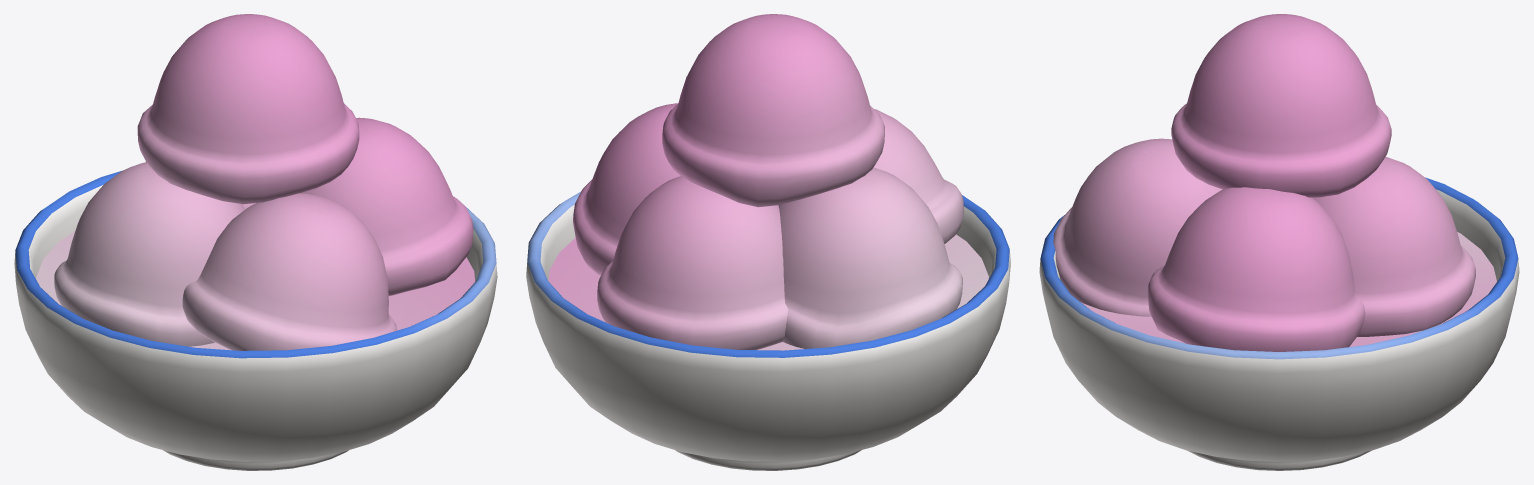
The model's file is IceCreamStrawberry.glb.
3 views of the same model, side by side, from view 1: azimuth 30°, elevation 25°; view 2: azimuth 150°, elevation 25°; view 3: azimuth 270°, elevation 25° (orthographic).
Parts seen in each view (by area): view 1: IceCreamStrawberry; view 2: IceCreamStrawberry; view 3: IceCreamStrawberry.
Boxes of the visible parts, x1,y1,x2,y2 form: IceCreamStrawberry: (14,14,497,470); IceCreamStrawberry: (526,14,1010,470); IceCreamStrawberry: (1039,14,1519,470).
Size of the model in its own units: 0.2232 by 0.2052 by 0.2232.
1 material, 1 textured.
